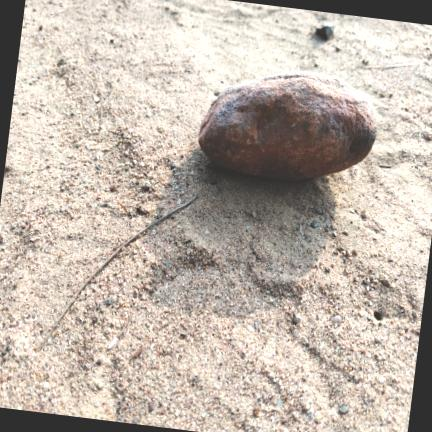Rocks: (199, 71, 376, 180), (316, 25, 333, 41), (339, 405, 348, 415), (332, 316, 341, 325), (148, 402, 156, 412), (310, 220, 318, 228)
